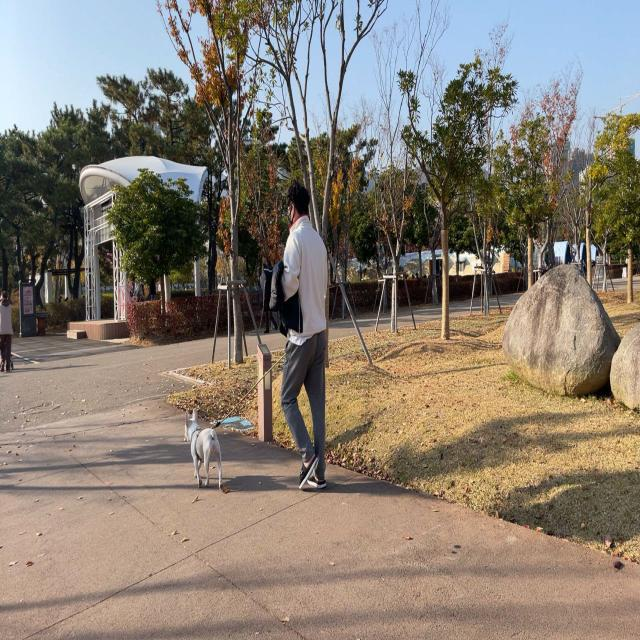Leashed_Dog: (184, 328, 300, 492)
